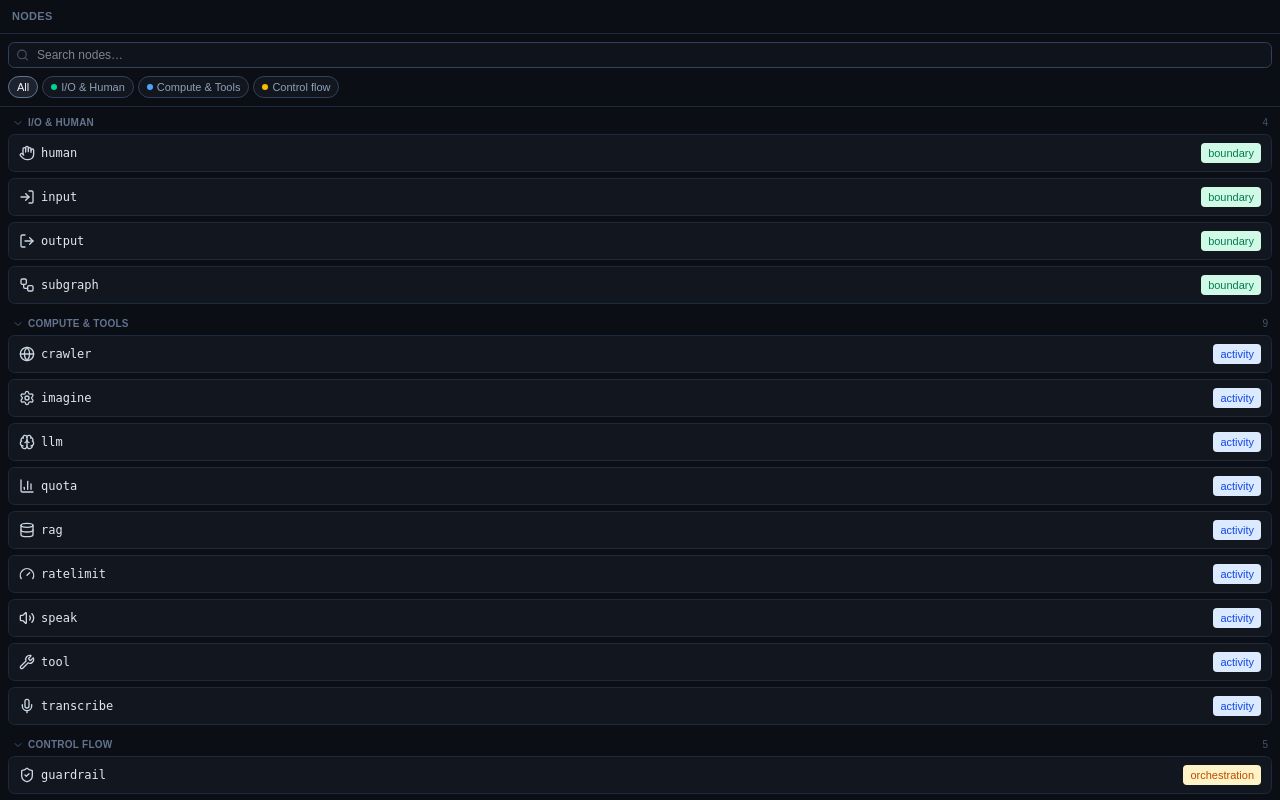
Test: Palette (derived from the registry, never hardcoded) › filters by the search box and shows an empty state when nothing matches
The width and height of the screenshot is (1280, 800).
Type "crawler" into the field with placeholder "Search nodes…" at (640, 54), box x1=8 y1=42 x2=1272 y2=68
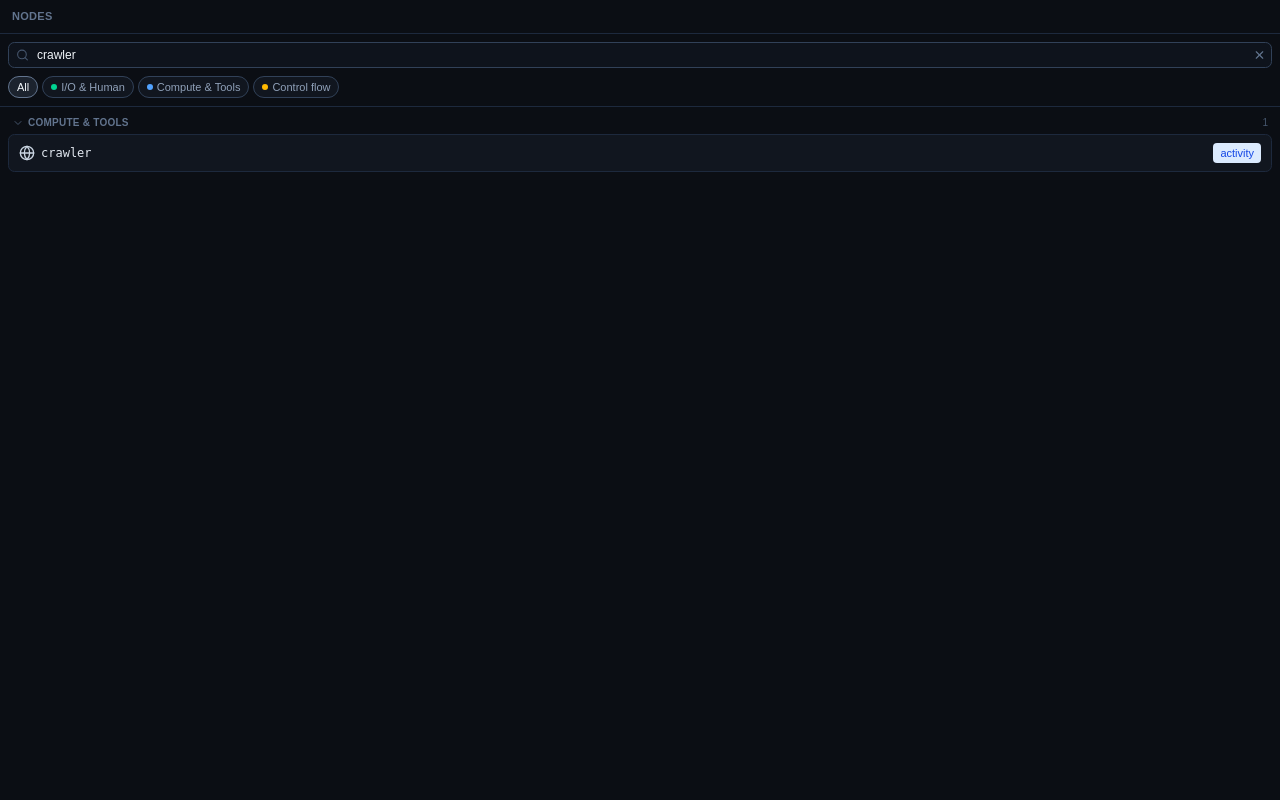
Expected: the text "crawler" is shown, x1=41 y1=145 x2=92 y2=161
Replace the text in the field with placeholder "Search nodes…" with "zzz-no-such-node" at (640, 54), box x1=8 y1=42 x2=1272 y2=68
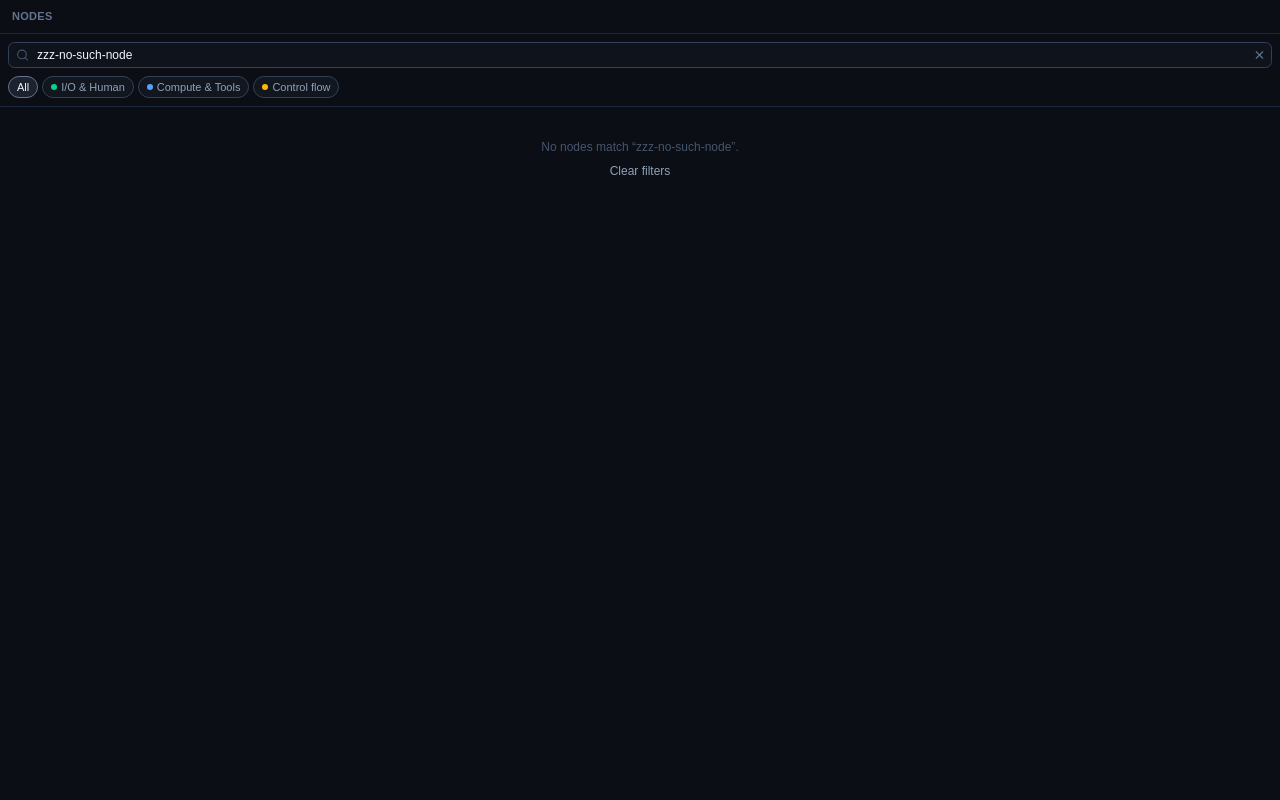
Now the text "No nodes match “zzz-no-such-node”." is shown, box x1=541 y1=140 x2=739 y2=154
